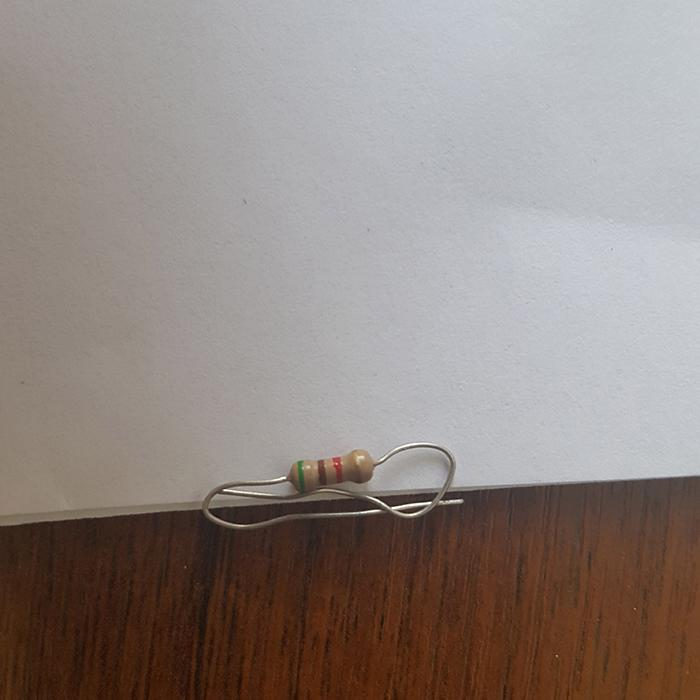resistor: (288, 448, 374, 493)
